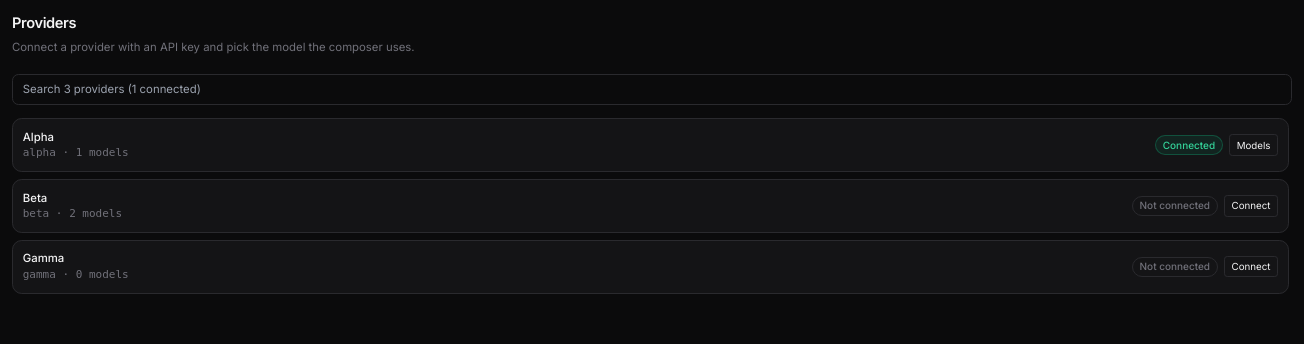
Test: ProvidersSection › offers no key form for oauth-only providers
What coordinates should you click on to do the following:
click the 3rd button with test id "provider-toggle"
I would click on:
 (1251, 267)
Its box is x1=1224 y1=256 x2=1278 y2=277.
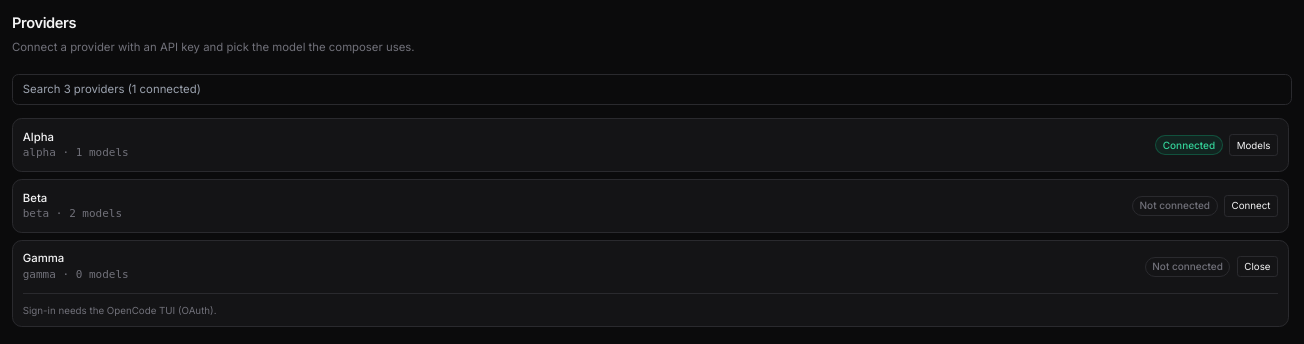
Expected: the text with test id "provider-not-connectable" shows "OAuth", x1=23 y1=304 x2=214 y2=316
